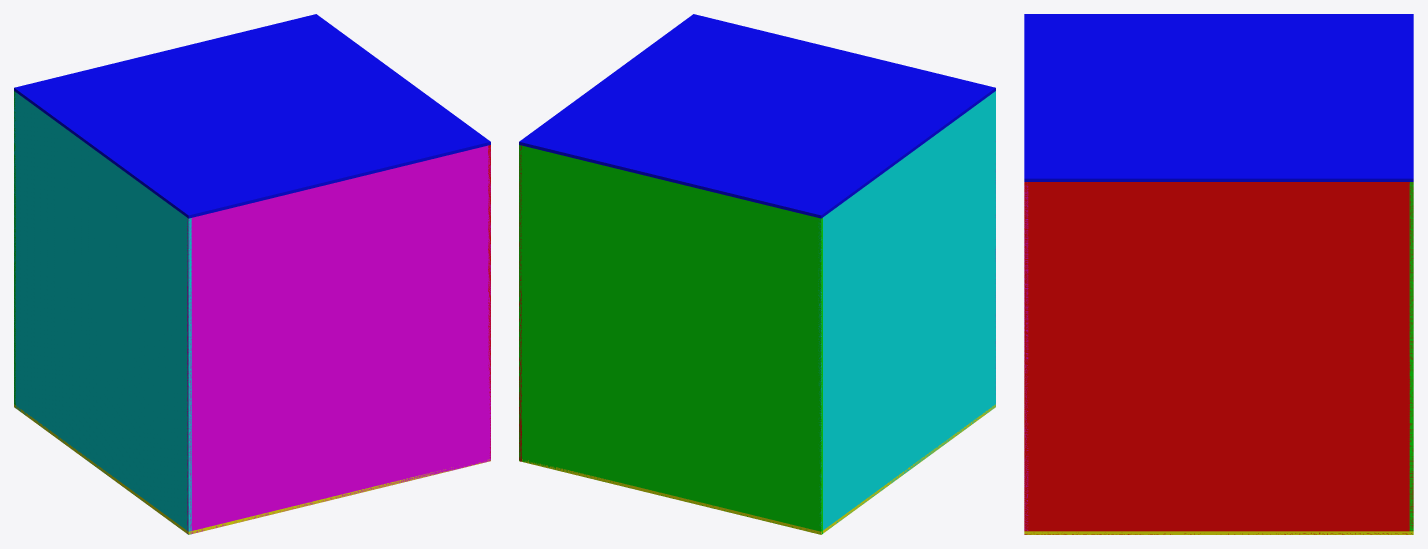
File: color-cube.glb
3 renders of one model, left to right at view 1: azimuth 30°, elevation 25°; view 2: azimuth 150°, elevation 25°; view 3: azimuth 270°, elevation 25°, orthographic. The views are drawn at different scales.
Bounding box in the file's own units: 0.1 × 0.101 × 0.1.
